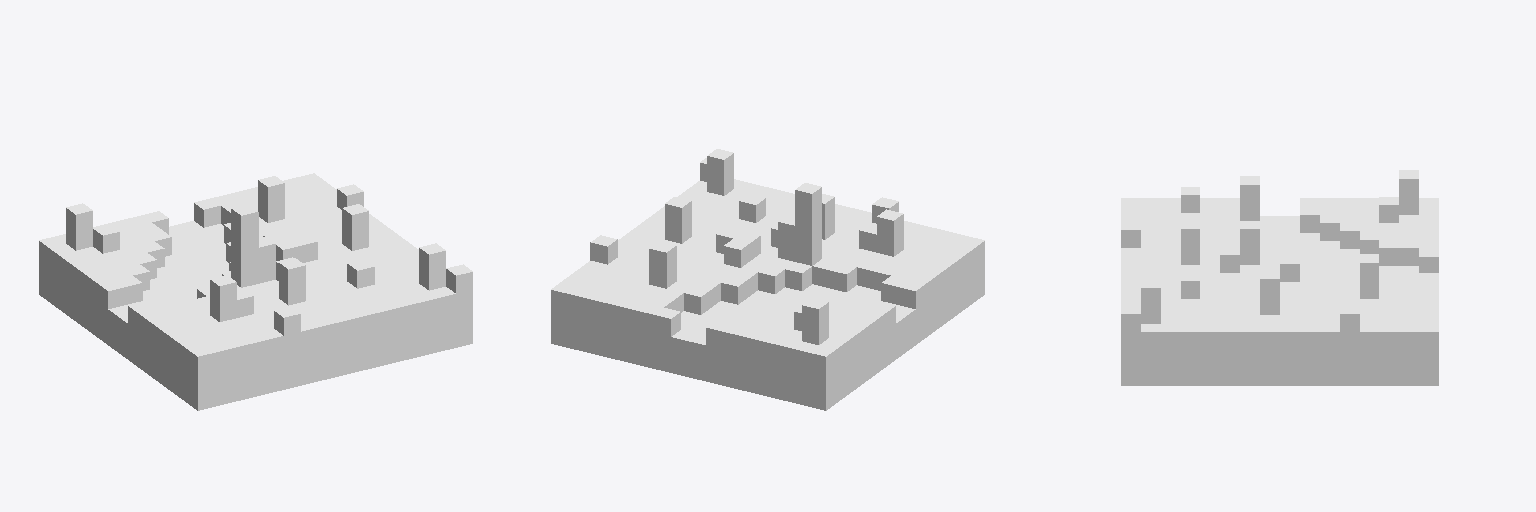
File: corner.obj
The picture shows the model from 3 angles: view 1: azimuth 30°, elevation 25°; view 2: azimuth 150°, elevation 25°; view 3: azimuth 270°, elevation 25°; orthographic projection.
Parts seen in each view (by area): view 1: CaveCorner; view 2: CaveCorner; view 3: CaveCorner.
Part boxes in pixels (x1,y1,x2,y2): CaveCorner: (39, 173, 472, 410); CaveCorner: (551, 149, 984, 410); CaveCorner: (1121, 170, 1438, 385).
Size of the model in its own units: 16 by 7 by 16.